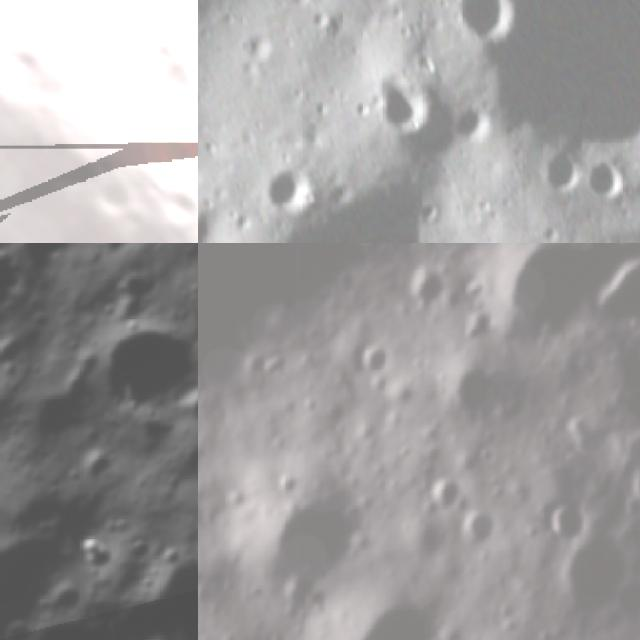crater: (0, 0, 198, 243), (424, 0, 640, 205), (230, 163, 465, 243), (71, 304, 198, 444), (494, 243, 617, 344), (257, 473, 359, 594), (105, 521, 198, 640), (552, 541, 626, 621), (104, 250, 175, 329), (56, 425, 126, 499), (432, 355, 502, 429), (251, 159, 323, 220), (166, 246, 198, 375), (27, 568, 92, 630), (529, 139, 585, 205), (440, 0, 517, 47), (336, 605, 439, 640), (372, 71, 433, 128), (402, 260, 456, 316), (542, 494, 589, 553), (581, 156, 635, 207), (116, 611, 197, 640), (457, 508, 500, 556), (352, 338, 398, 376), (422, 473, 458, 515), (621, 447, 640, 520), (0, 610, 43, 640), (176, 380, 198, 431), (93, 243, 137, 258)
